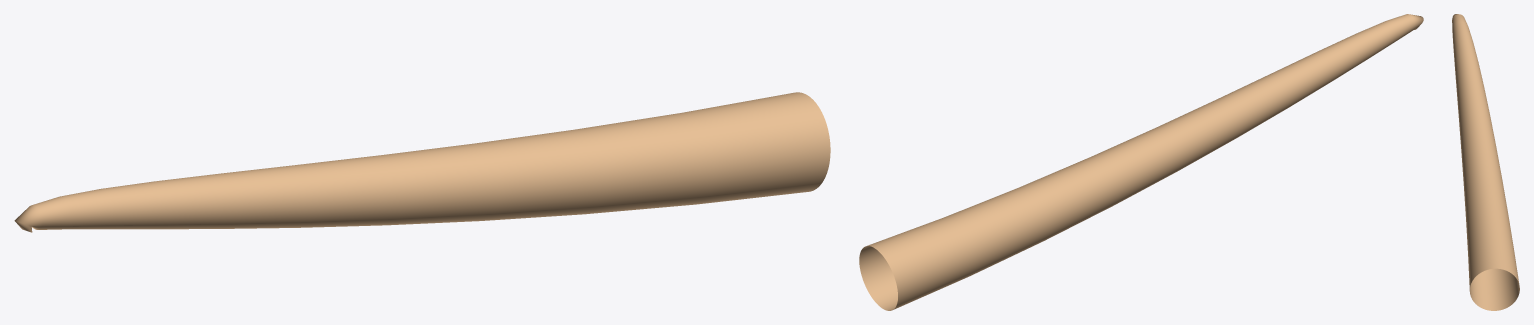
File: Uretra.fbx
3 views of the same model, side by side, from view 1: azimuth 30°, elevation 25°; view 2: azimuth 210°, elevation 25°; view 3: azimuth 270°, elevation 25° (orthographic). The views are drawn at different scales.
Visible parts, largest first — view 1: BezierCurve_003; view 2: BezierCurve_003; view 3: BezierCurve_003.
Part boxes in pixels (x1,y1,x2,y2): BezierCurve_003: (14, 92, 830, 232); BezierCurve_003: (859, 14, 1423, 310); BezierCurve_003: (1452, 14, 1519, 310).
Bounding box in the file's own units: 1.73 × 0.4061 × 0.2446.
